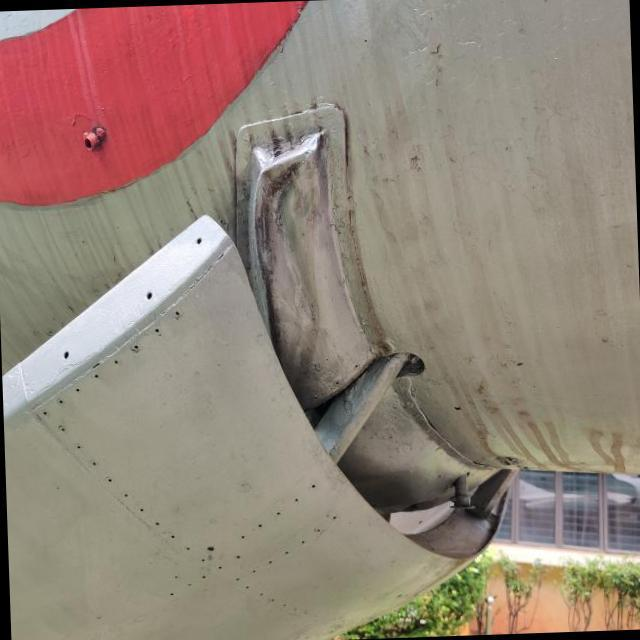Dent: (235, 122, 354, 364)
